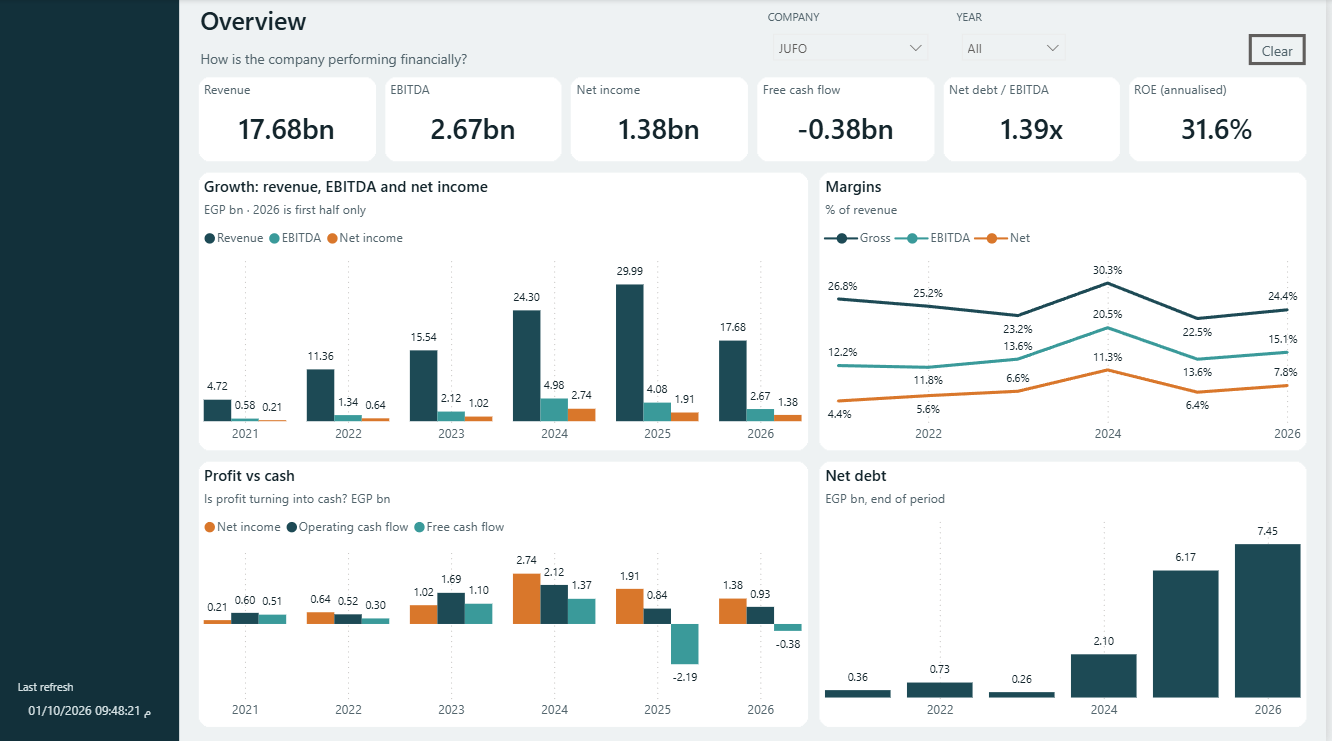

What the dashboard file says about the page in this screenshot:
{"tool":"powerbi","page":{"name":"Overview","canvas":[1280,720],"ordinal":0},"visuals":[{"type":"card","title":"Revenue","fields":{"Values":["Measures List.Revenue (card)"]},"box":[192,78,170,80],"z":10},{"type":"card","title":"EBITDA","fields":{"Values":["Measures List.EBITDA (card)"]},"box":[372,78,170,80],"z":11},{"type":"card","title":"Net income","fields":{"Values":["Measures List.Net Income (card)"]},"box":[551,78,170,80],"z":12},{"type":"card","title":"Free cash flow","fields":{"Values":["Measures List.Free Cash Flow (card)"]},"box":[731,78,170,80],"z":13},{"type":"card","title":"Net debt / EBITDA","fields":{"Values":["Measures List.Net Debt / EBITDA (card)"]},"box":[911,78,170,80],"z":14},{"type":"card","title":"ROE (annualised)","fields":{"Values":["Measures List.ROE (annualised) (card)"]},"box":[1090,78,170,80],"z":15},{"type":"clusteredColumnChart","title":"Growth: revenue, EBITDA and net income","fields":{"Category":["DimDate.Year"],"Y":["Measures List.Revenue (chart)","Measures List.EBITDA (chart)","Measures List.Net Income (chart)"]},"box":[192,170,587,267],"z":20},{"type":"lineChart","title":"Margins","fields":{"Y":["Measures List.Gross Profit % (chart)","Measures List.EBITDA Margin % (chart)","Measures List.Net Income Margin % (chart)"],"Category":["DimDate.Year"]},"box":[791,170,469,267],"z":21},{"type":"clusteredColumnChart","title":"Profit vs cash","fields":{"Category":["DimDate.Year"],"Y":["Measures List.Net Income (chart)","Measures List.Operating Cash Flow (chart)","Measures List.Free Cash Flow (chart)"]},"box":[192,449,587,255],"z":22},{"type":"clusteredColumnChart","title":"Net debt","fields":{"Category":["DimDate.Year"],"Y":["Measures List.Net Debt (chart)"]},"box":[791,449,469,255],"z":23},{"type":"pageNavigator","box":[12,38,150,270],"z":50},{"type":"card","title":"Last refresh","fields":{"Values":["Max(Last Refreash.Date)"]},"box":[12,656,150,52],"z":51},{"type":"textbox","box":[188,0,540,46],"z":52},{"type":"textbox","box":[188,44,540,30],"z":53},{"type":"slicer","title":"COMPANY","fields":{"Values":["FactFinancials.Company"]},"box":[736,10,170,56],"z":54},{"type":"slicer","title":"YEAR","fields":{"Values":["DimDate.Year"]},"box":[918,10,120,56],"z":55},{"type":"actionButton","box":[1205,34,55,30],"z":56}]}

Visuals, with their boxes in screenshot pixels (x1, y1, x2, y2), scaled from the page's 1280x720 canvas onto the 1332x741 screenshot:
"Revenue" card: BBox(200, 80, 377, 163)
"EBITDA" card: BBox(387, 80, 564, 163)
"Net income" card: BBox(573, 80, 750, 163)
"Free cash flow" card: BBox(761, 80, 938, 163)
"Net debt / EBITDA" card: BBox(948, 80, 1125, 163)
"ROE (annualised)" card: BBox(1134, 80, 1311, 163)
"Growth: revenue, EBITDA and net income" clusteredColumnChart: BBox(200, 175, 811, 450)
"Margins" lineChart: BBox(823, 175, 1311, 450)
"Profit vs cash" clusteredColumnChart: BBox(200, 462, 811, 725)
"Net debt" clusteredColumnChart: BBox(823, 462, 1311, 725)
pageNavigator: BBox(12, 39, 169, 317)
"Last refresh" card: BBox(12, 675, 169, 729)
textbox: BBox(196, 0, 758, 47)
textbox: BBox(196, 45, 758, 76)
"COMPANY" slicer: BBox(766, 10, 943, 68)
"YEAR" slicer: BBox(955, 10, 1080, 68)
actionButton: BBox(1254, 35, 1311, 66)
